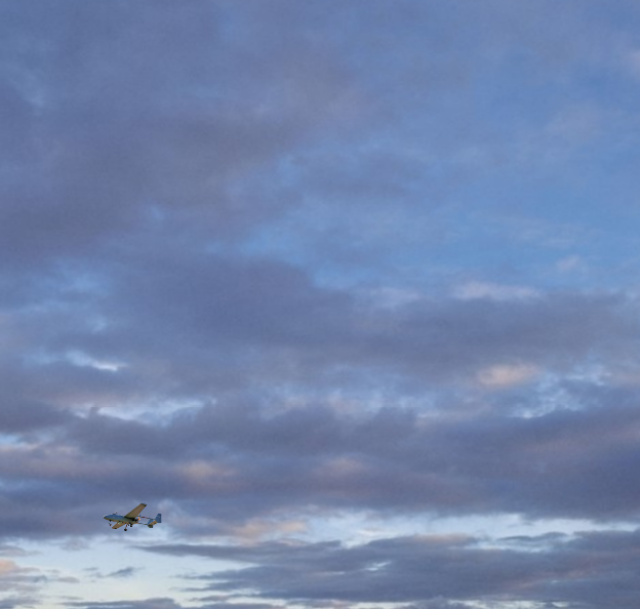military drone: (102, 502, 161, 531)
